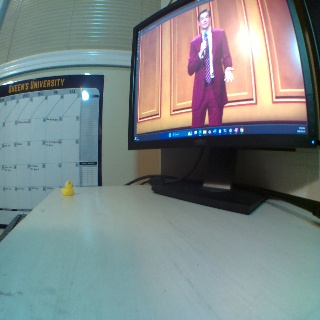duck_regular: (60, 180, 74, 196)
